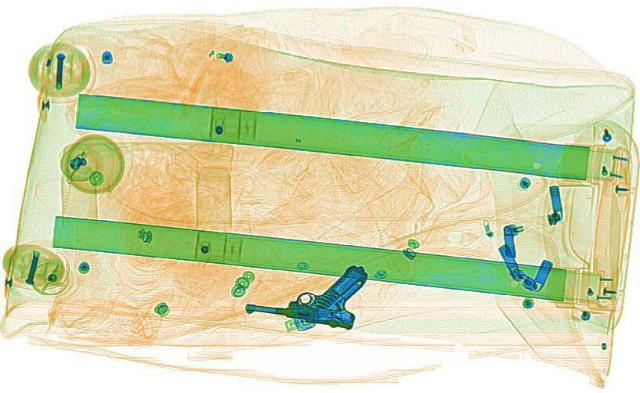Gun: (240, 253, 374, 328)
